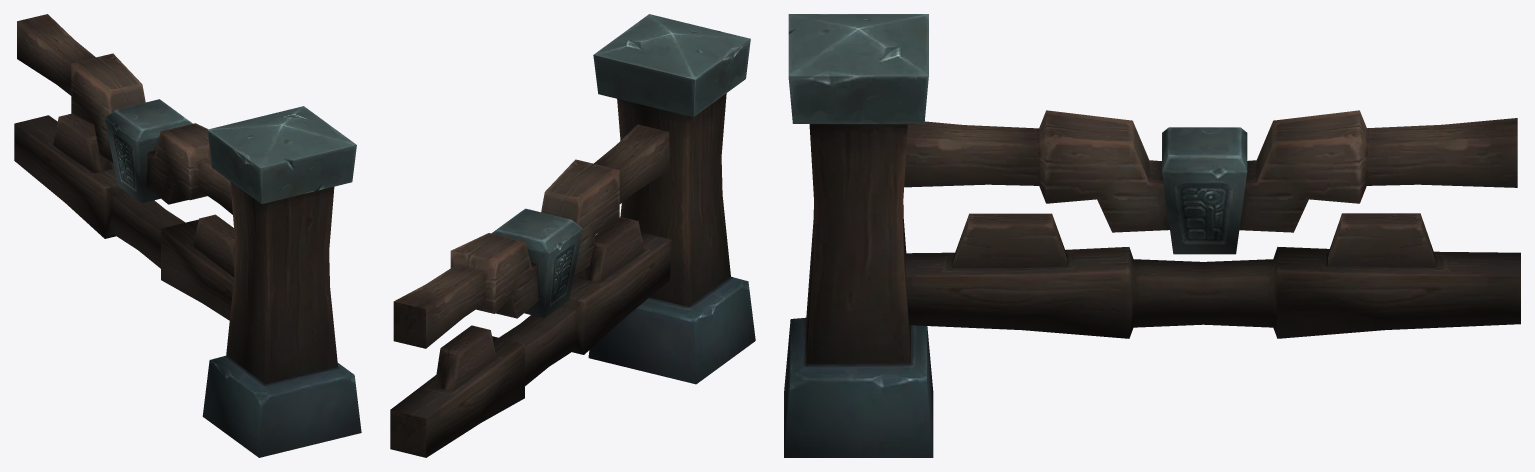
The picture shows the model from 3 angles, left to right: view 1: azimuth 30°, elevation 25°; view 2: azimuth 150°, elevation 25°; view 3: azimuth 270°, elevation 25°; orthographic projection. The views are drawn at different scales.
Bounding box in the file's own units: 0.7572 × 2.12 × 3.57.
Materials: 1 (1 with a texture image).
